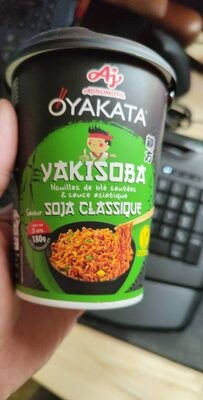Yakisoba soja classique: (10, 20, 193, 380)
